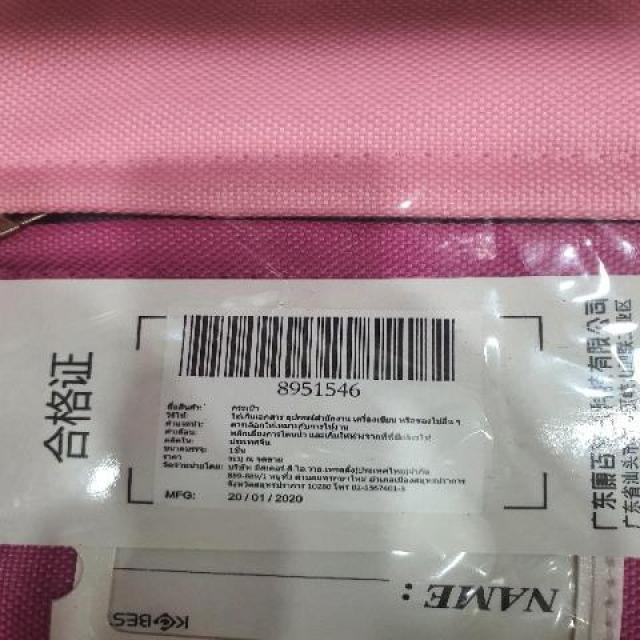Barcode: (168, 304, 475, 399)
